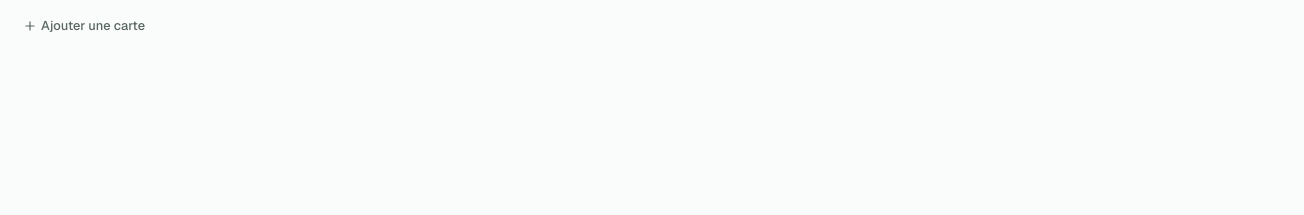
it: CreateCardForm › refuse le titre  sans appeler l'action
The width and height of the screenshot is (1304, 215).
Click the button "Ajouter une carte" at (93, 26), box [12,12,1292,40]
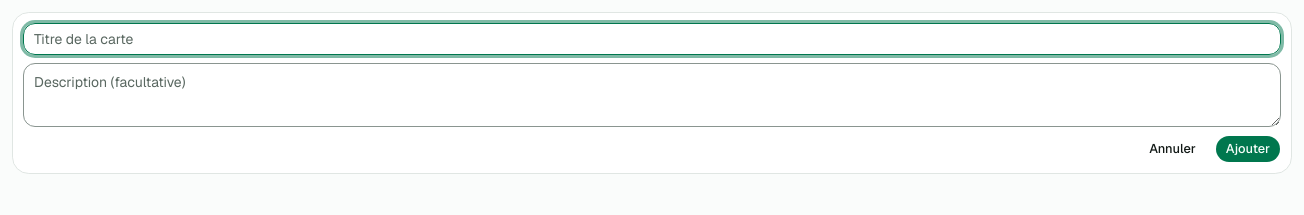
Type "Une description" into the text box named "Description de la nouvelle carte" at (652, 95), box [23,63,1281,127]
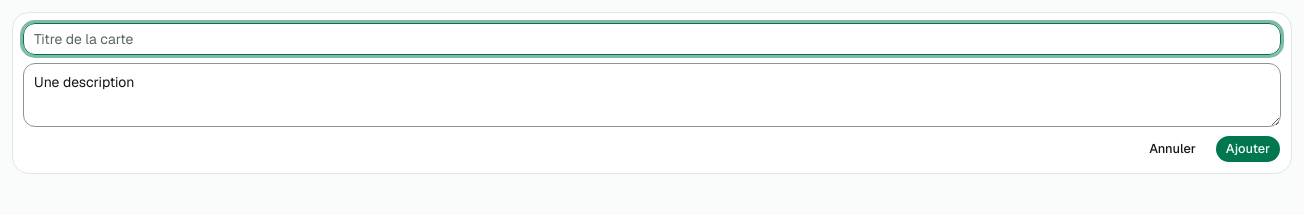
Click the button "Ajouter" at (1248, 149), box [1215,135,1281,163]
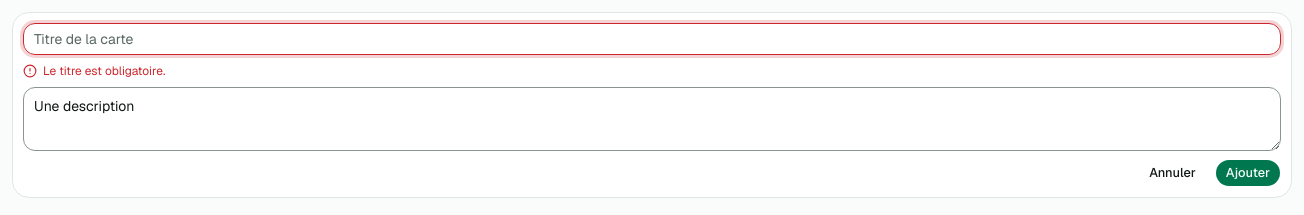
Now the text "Le titre est obligatoire." is shown, box [23,63,165,79]
